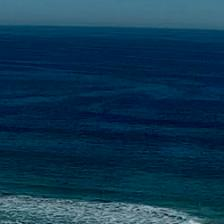surfer: (63, 182, 76, 186), (189, 202, 200, 206), (197, 216, 204, 219), (50, 180, 60, 182), (99, 190, 102, 196), (105, 177, 108, 181)
